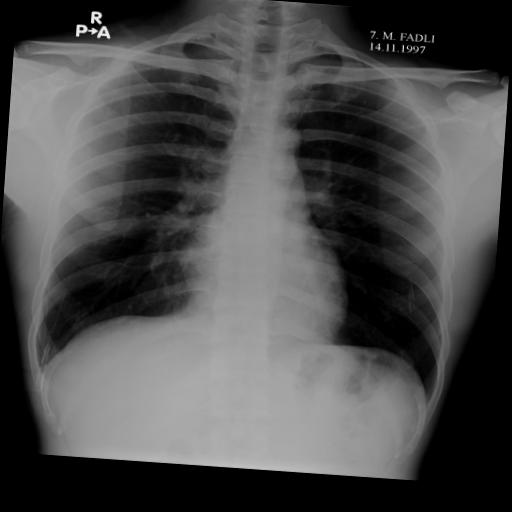normal: (16, 6, 476, 421)
